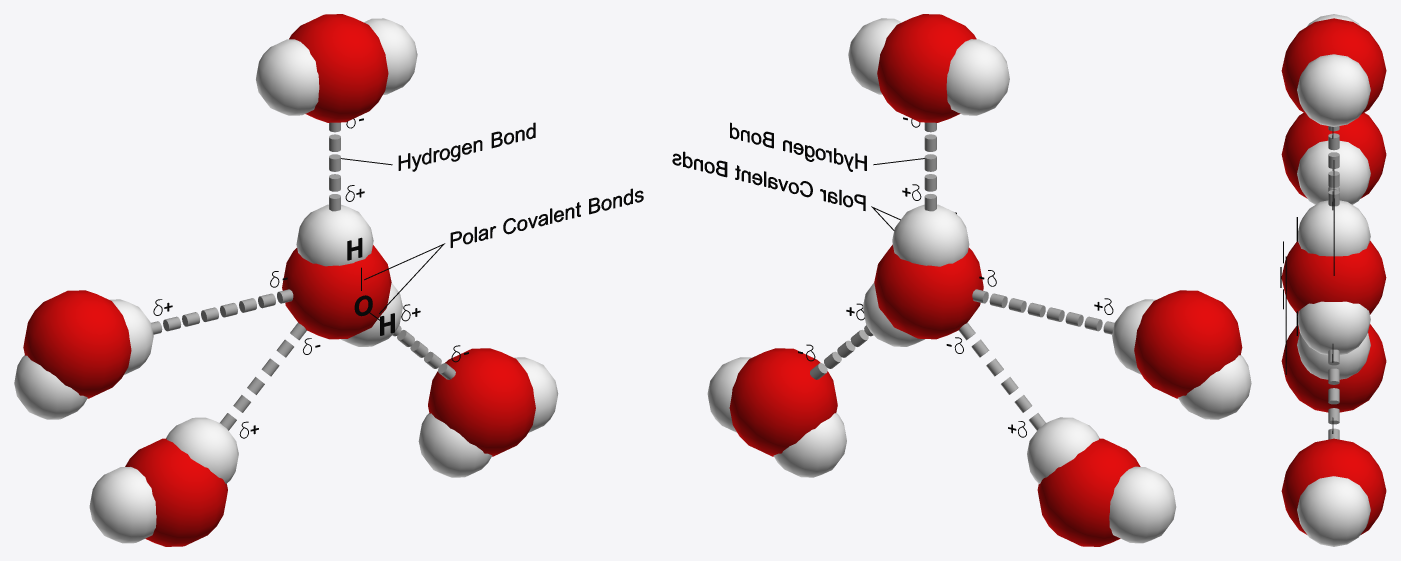
The model's file is the_polarity_of_water.glb.
The picture shows the model from 3 angles, left to right: view 1: azimuth 30°, elevation 25°; view 2: azimuth 150°, elevation 25°; view 3: azimuth 270°, elevation 25°; orthographic projection. The views are drawn at different scales.
Parts seen in each view (by area): view 1: Box001_red_0, Box008_white_0, Cylinder008_grey_0, TextPlus001_black_0; view 2: Box001_red_0, Box008_white_0, Cylinder008_grey_0, TextPlus001_black_0; view 3: Box001_red_0, Box008_white_0, Cylinder008_grey_0, TextPlus001_black_0.
Boxes of the visible parts, bbox=[...] form: Box001_red_0: bbox=[23, 14, 535, 546]; Box008_white_0: bbox=[14, 18, 558, 543]; Cylinder008_grey_0: bbox=[151, 122, 455, 430]; TextPlus001_black_0: bbox=[153, 118, 643, 438]; Box001_red_0: bbox=[729, 14, 1242, 546]; Box008_white_0: bbox=[707, 18, 1251, 543]; Cylinder008_grey_0: bbox=[810, 122, 1114, 430]; TextPlus001_black_0: bbox=[672, 117, 1113, 437]; Box001_red_0: bbox=[1281, 18, 1386, 535]; Box008_white_0: bbox=[1297, 14, 1370, 546]; Cylinder008_grey_0: bbox=[1328, 126, 1339, 439]; TextPlus001_black_0: bbox=[1280, 127, 1334, 433].
Size of the model in its own units: 17.1 by 13.25 by 2.76.
